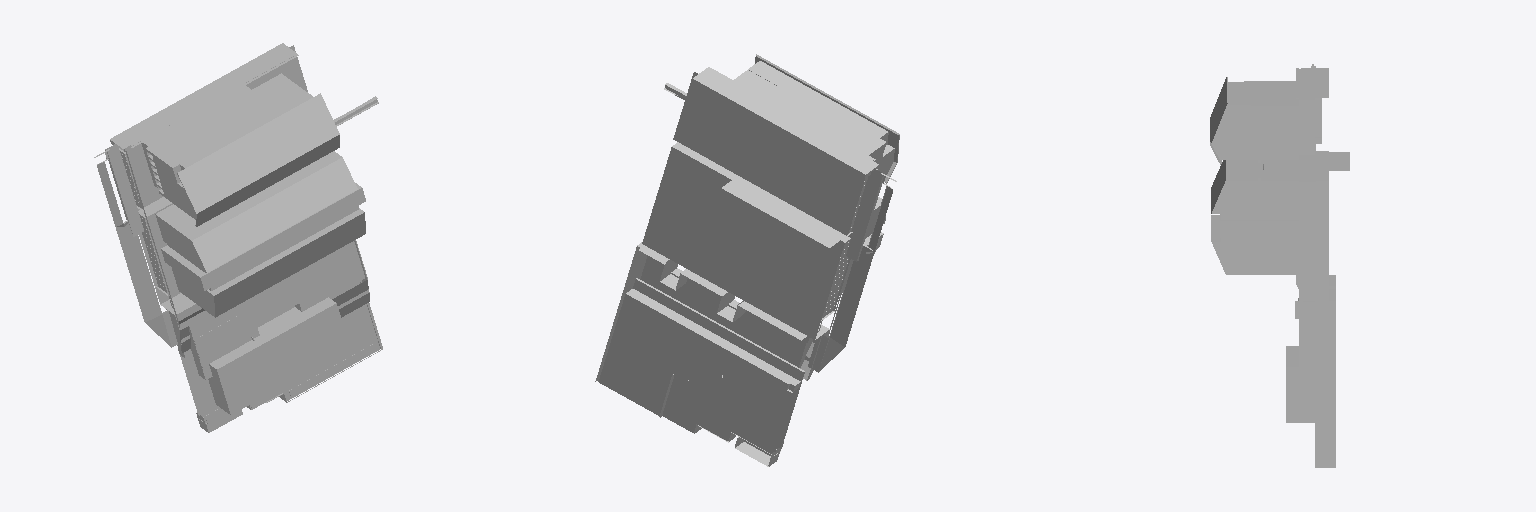
The model's file is oldMPMassing.obj.
3 views of the same model, side by side, from view 1: azimuth 30°, elevation 25°; view 2: azimuth 150°, elevation 25°; view 3: azimuth 270°, elevation 25° (orthographic).
Bounding box in the file's own units: 352 × 428 × 148.